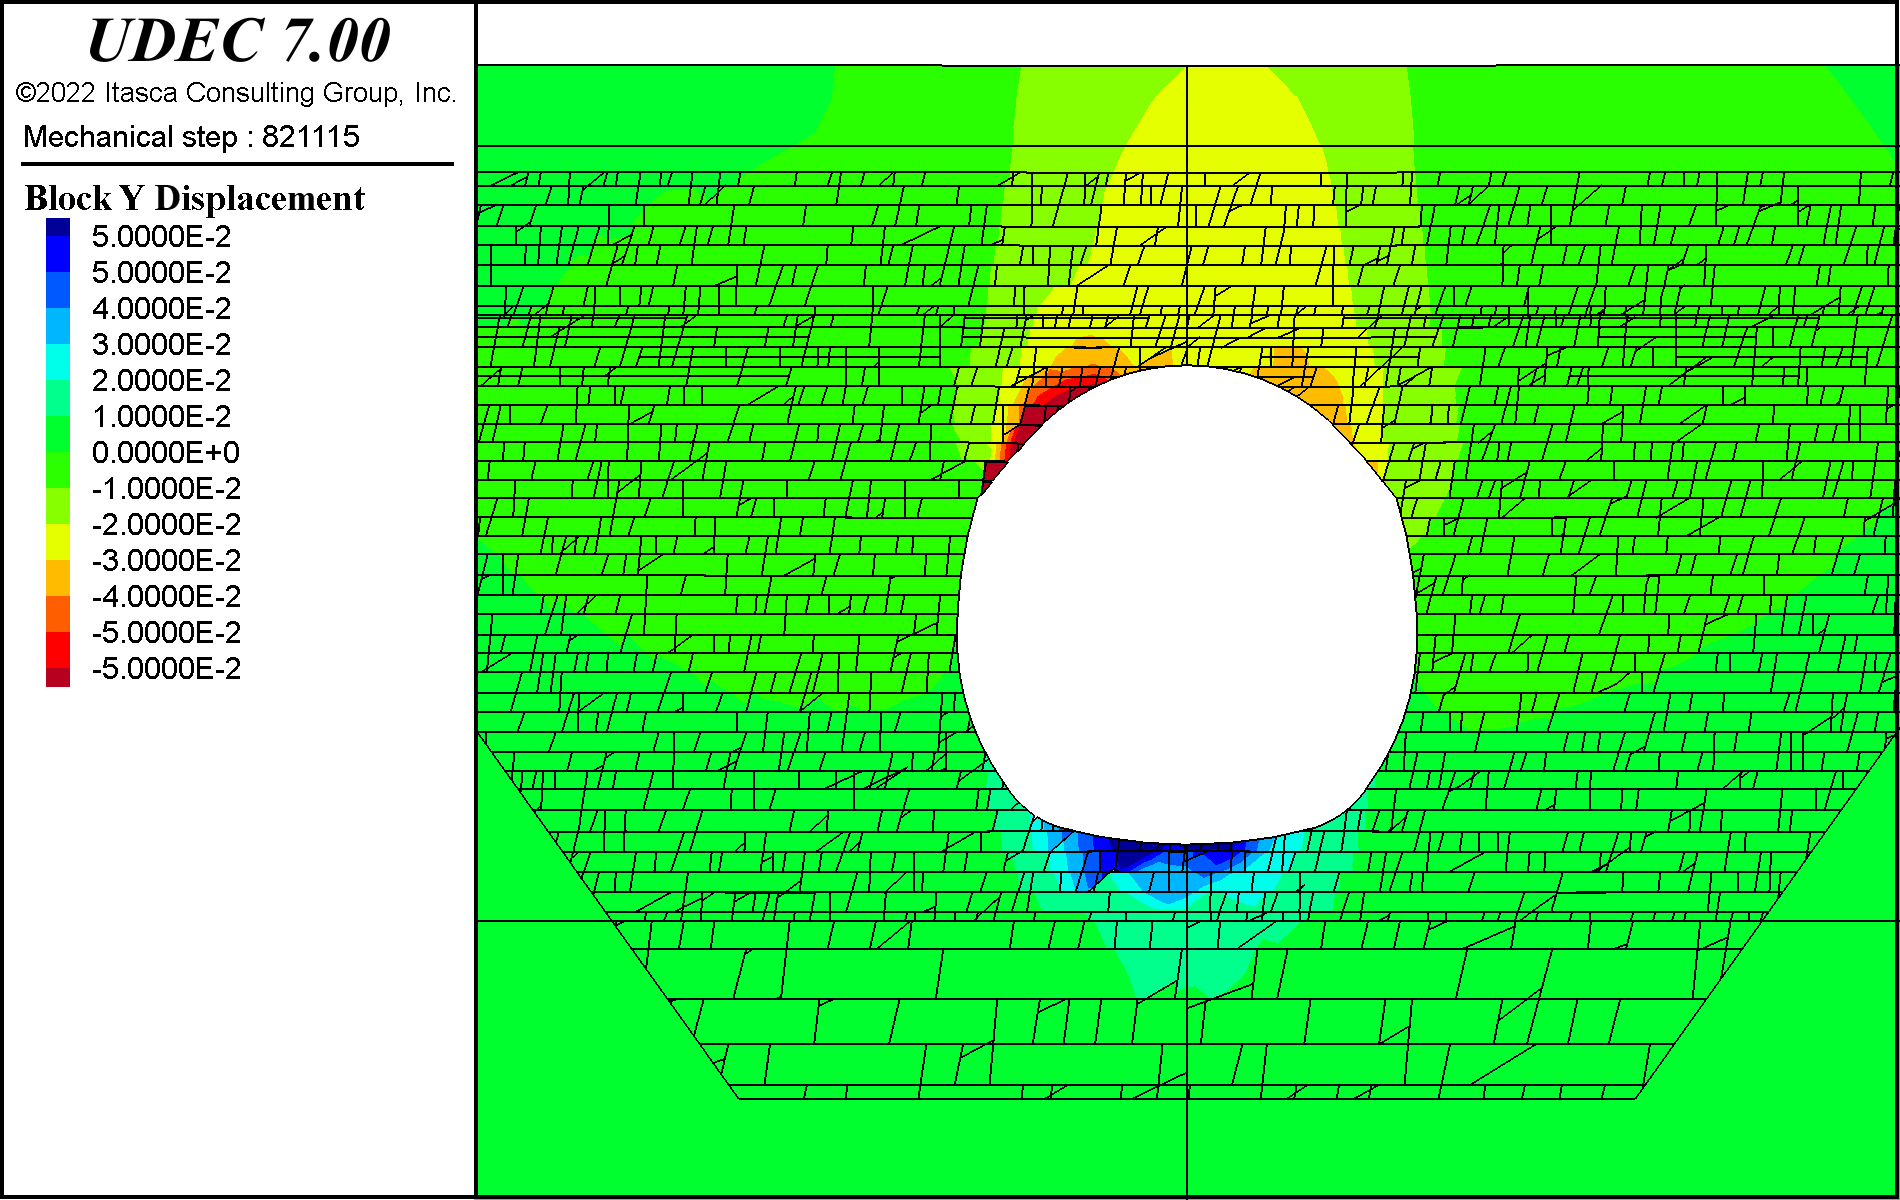crown: (1151, 333, 1226, 364)
label: (8, 6, 474, 1190)
tunnel-opening: (963, 366, 1418, 846)
